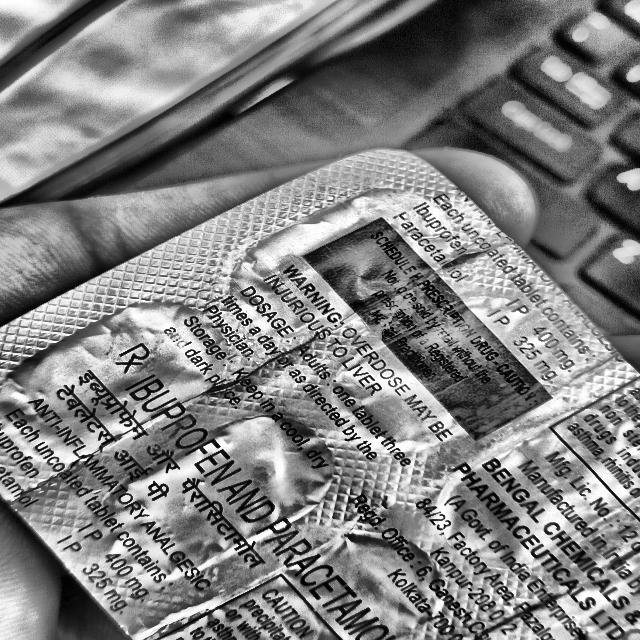IBUPROFEN AND PARACETAMOL TABLETS: (94, 358, 423, 640)
